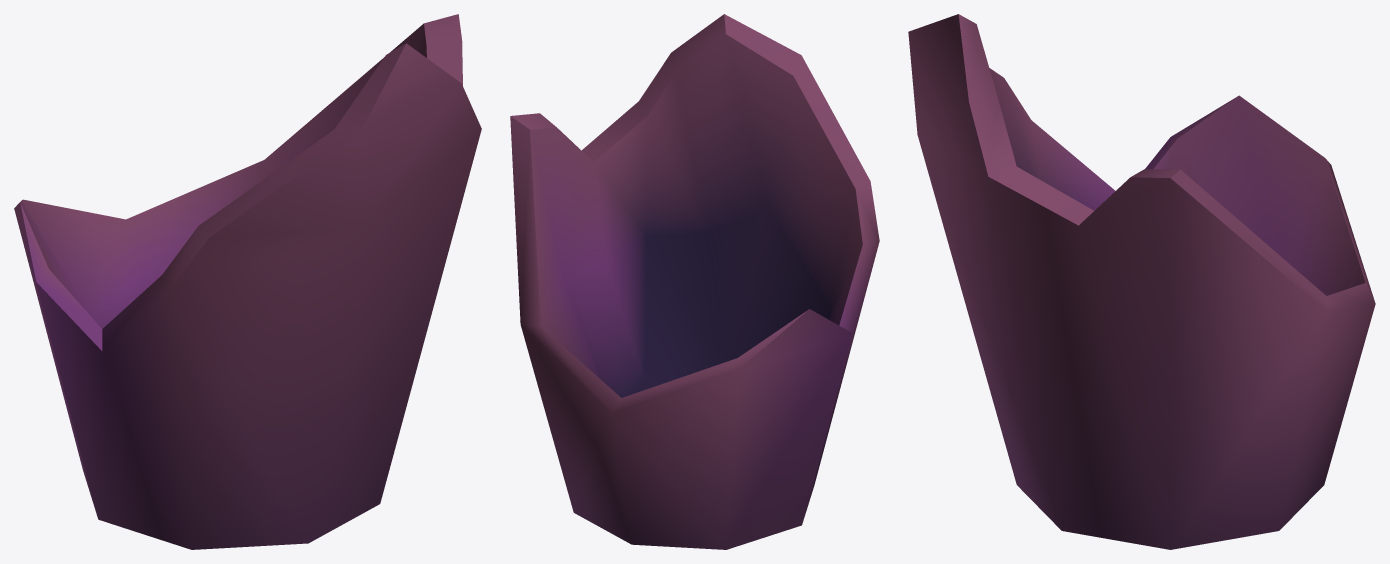
The model's file is SM_Pot_D.fbx.
The picture shows the model from 3 angles, left to right: view 1: azimuth 30°, elevation 25°; view 2: azimuth 150°, elevation 25°; view 3: azimuth 270°, elevation 25°; orthographic projection. The views are drawn at different scales.
Visible parts, largest first — view 1: Cube.071; view 2: Cube.071; view 3: Cube.071.
Boxes of the visible parts, x1,y1,x2,y2 form: Cube.071: (14, 14, 481, 549); Cube.071: (510, 14, 879, 549); Cube.071: (908, 14, 1375, 549).
Size of the model in its own units: 87.02 by 99.38 by 83.42.
